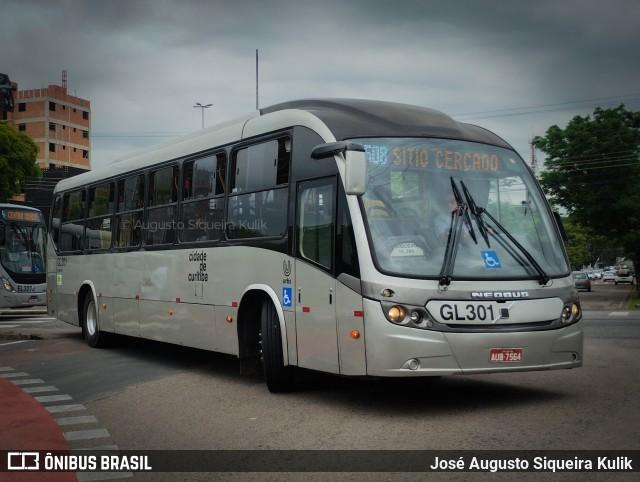SITIO CERCADO: (388, 142, 504, 177)
